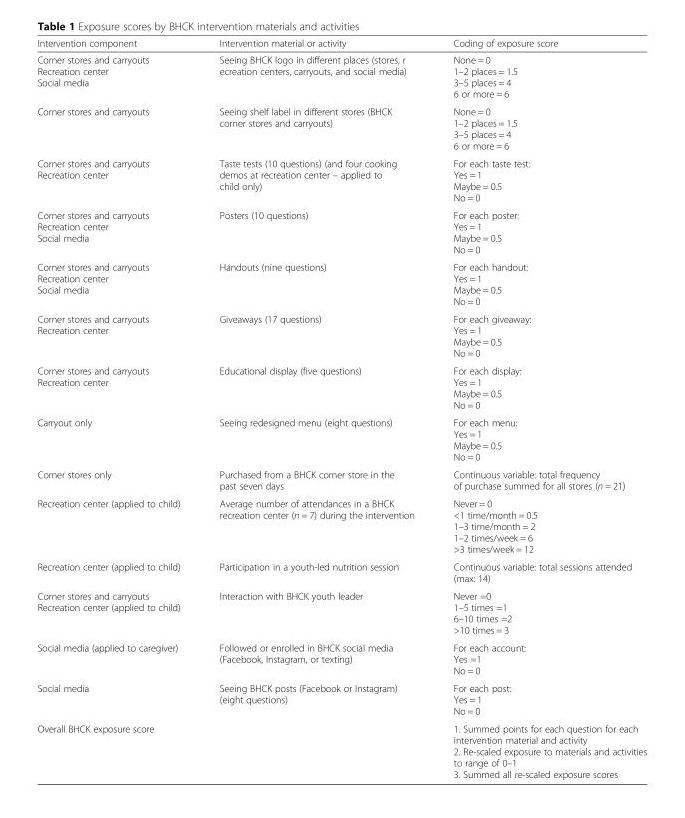table: (36, 37, 646, 779)
table column: (199, 37, 433, 779), (433, 37, 646, 779), (36, 37, 199, 779)
table column header: (36, 37, 646, 51)
table row: (36, 494, 646, 557), (36, 719, 646, 779), (36, 102, 646, 154), (36, 154, 646, 206), (36, 257, 646, 309), (36, 309, 646, 361), (36, 361, 646, 413), (36, 413, 646, 465), (36, 586, 646, 638), (36, 51, 646, 102), (36, 206, 646, 257), (36, 638, 646, 679), (36, 679, 646, 719), (36, 465, 646, 494), (36, 557, 646, 586), (36, 37, 646, 51)
table spanning cell: (36, 719, 433, 779)
